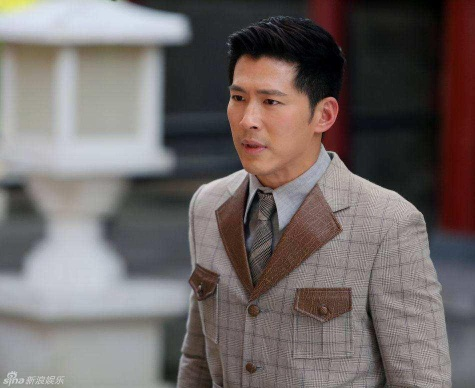male: (223, 15, 343, 177)
